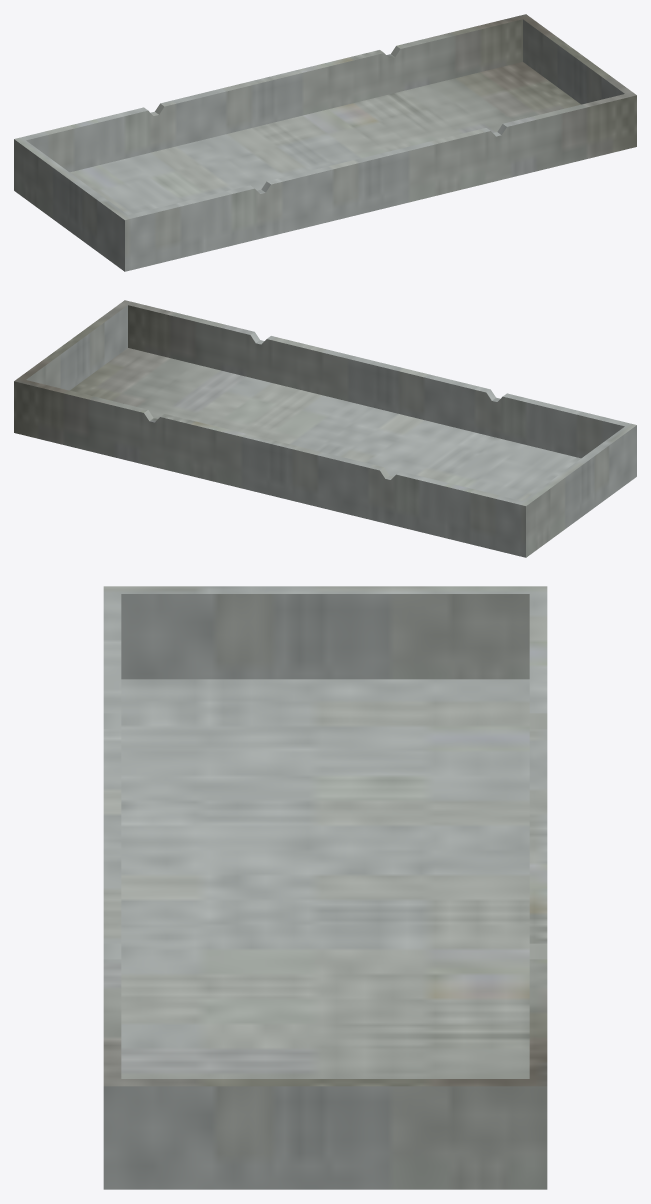
The model's file is tray.fbx.
3 views of the same model, one above another, from view 1: azimuth 30°, elevation 25°; view 2: azimuth 150°, elevation 25°; view 3: azimuth 270°, elevation 25° (orthographic). The views are drawn at different scales.
Visible parts, largest first — view 1: tray; view 2: tray; view 3: tray.
Part boxes in pixels (x1,y1,x2,y2): tray: (14,14,636,271); tray: (14,300,636,557); tray: (103,586,547,1189).
Bounding box in the file's own units: 800 × 77.05 × 300.
